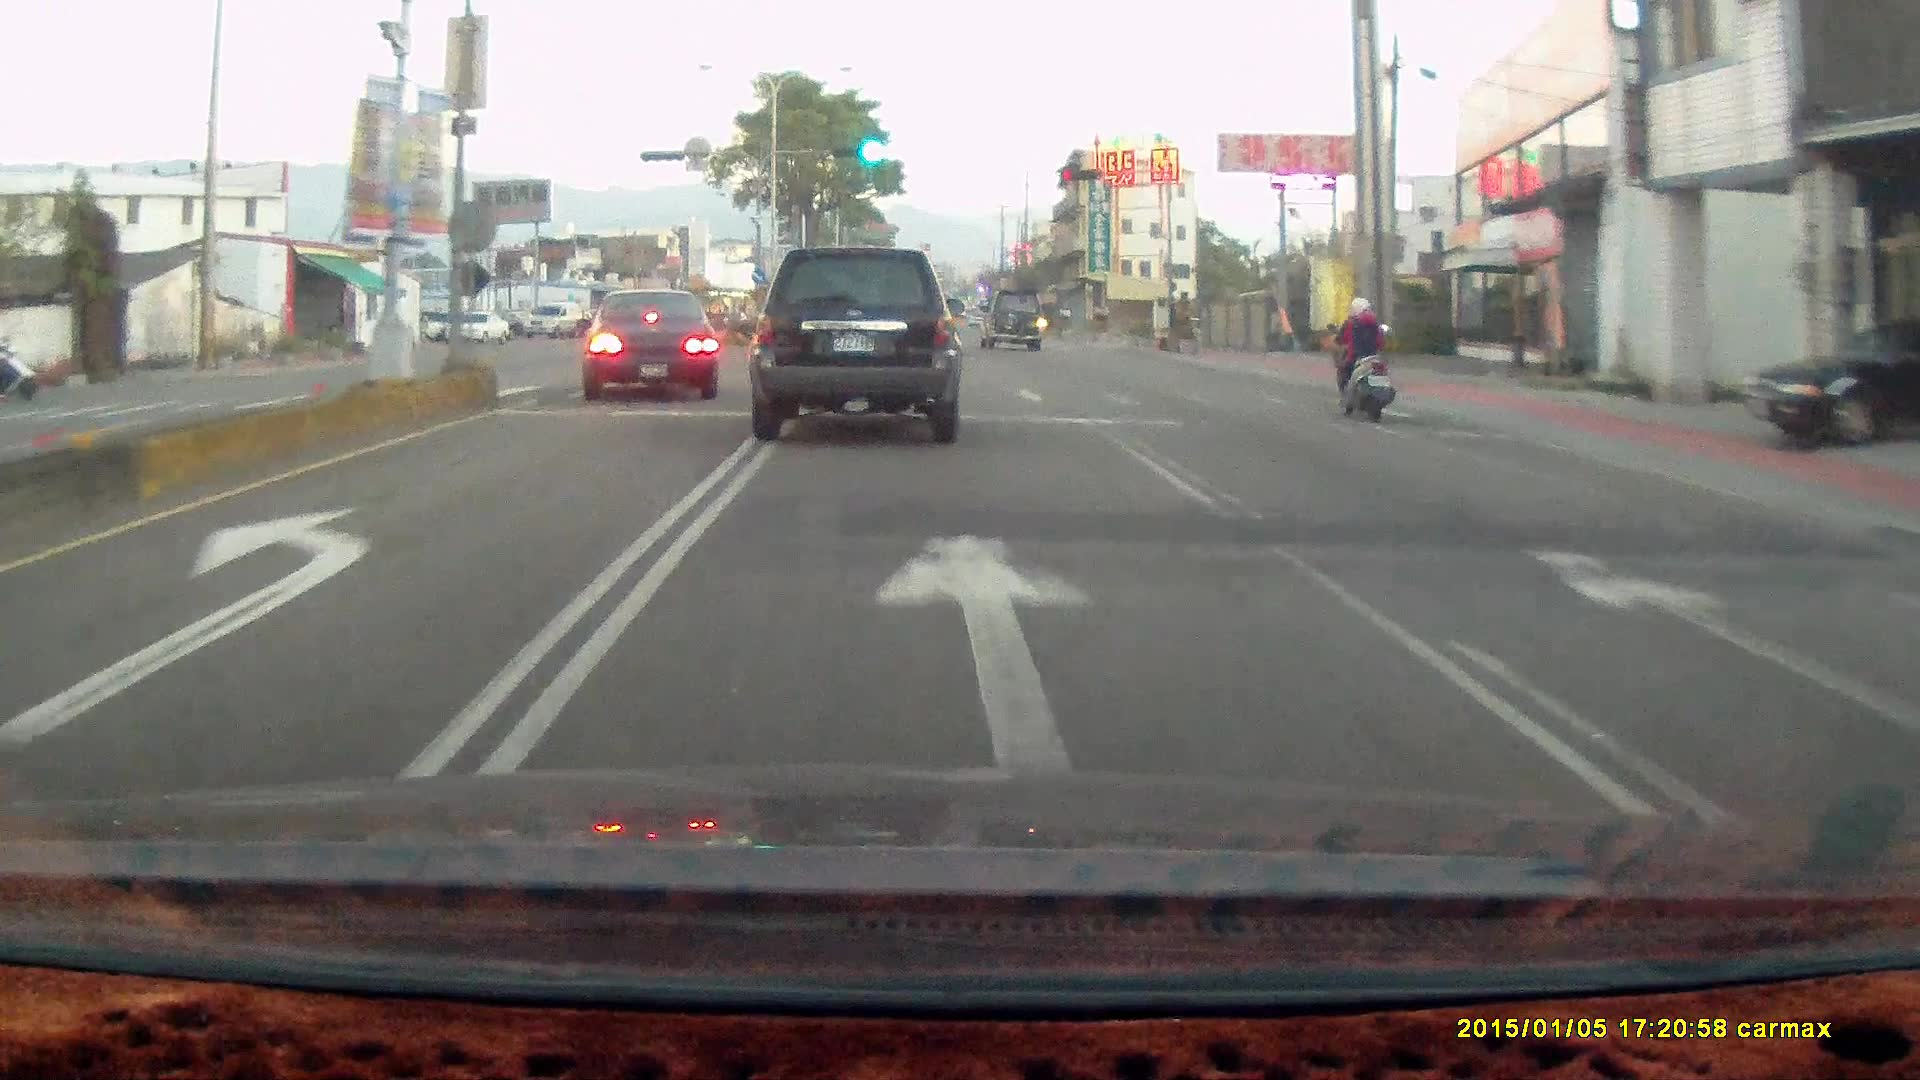rider: (1317, 284, 1407, 433), (1325, 294, 1393, 420), (0, 334, 40, 397)
vehicle: (745, 234, 967, 437), (745, 246, 962, 442), (1740, 313, 1919, 447), (1754, 313, 1920, 454), (577, 286, 725, 406), (574, 286, 720, 400), (977, 287, 1048, 352), (976, 285, 1043, 349), (441, 308, 509, 344), (522, 300, 583, 336)
